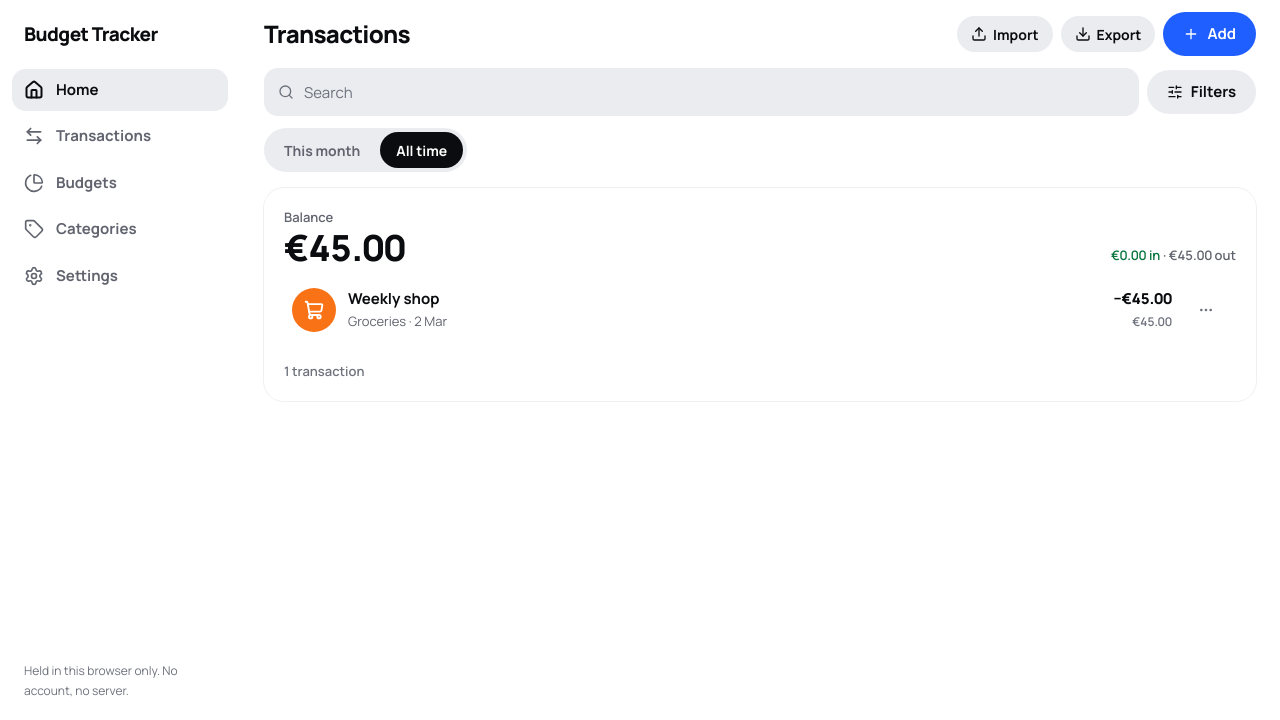
Scenario: editing and deleting a transaction › edits an existing transaction
Expected: the text "Weekly shop" is shown, [348,288,440,308]
Click the button named "actions for weekly shop" at (1206, 310), box [1184,288,1228,332]
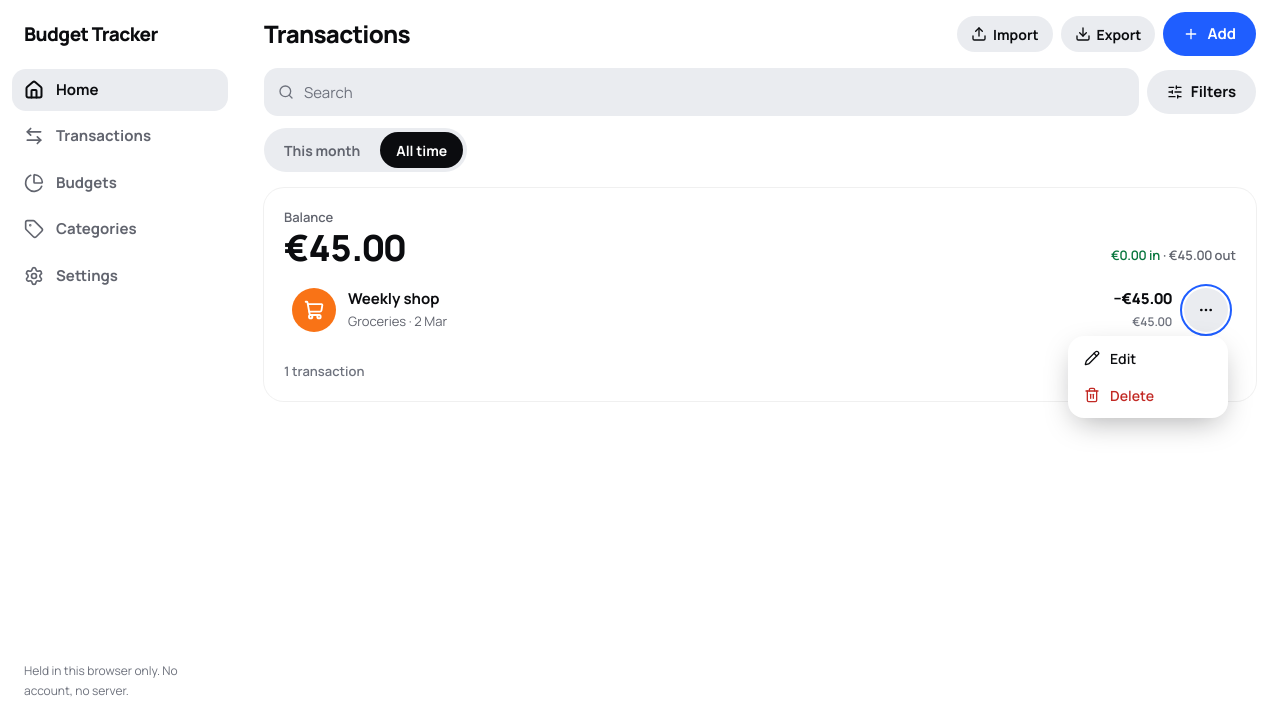
Click the menu item "Edit" at (1148, 358), box [1072,340,1224,376]
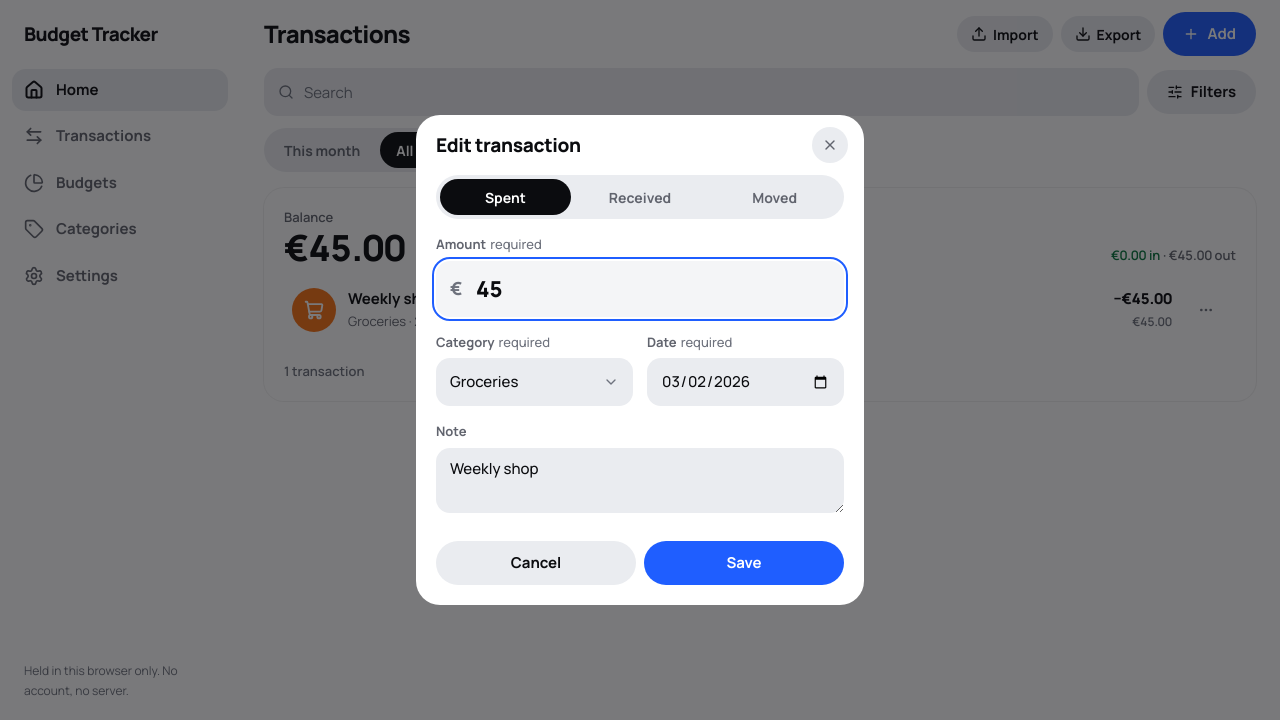
Replace the text in the text box labelled "Note" with "Big shop" at (640, 480), box [436,448,844,513]
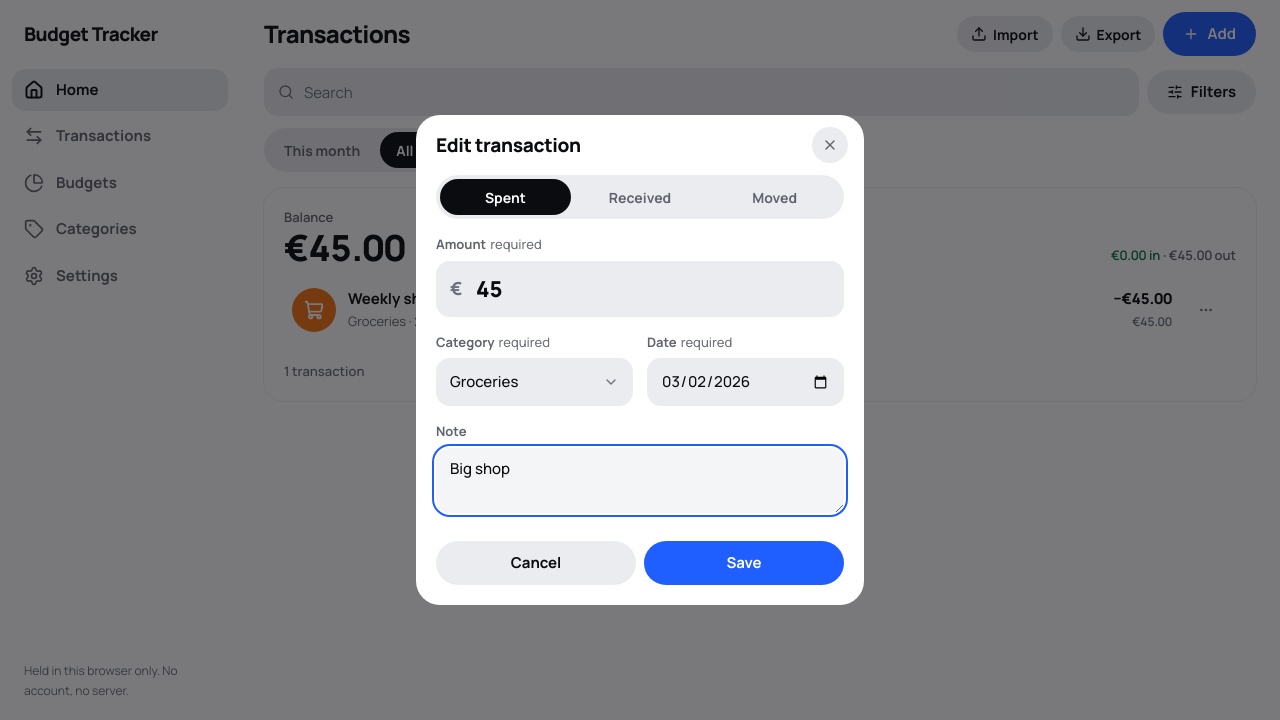
Click the button "Save" at (744, 563), box [644,541,844,585]
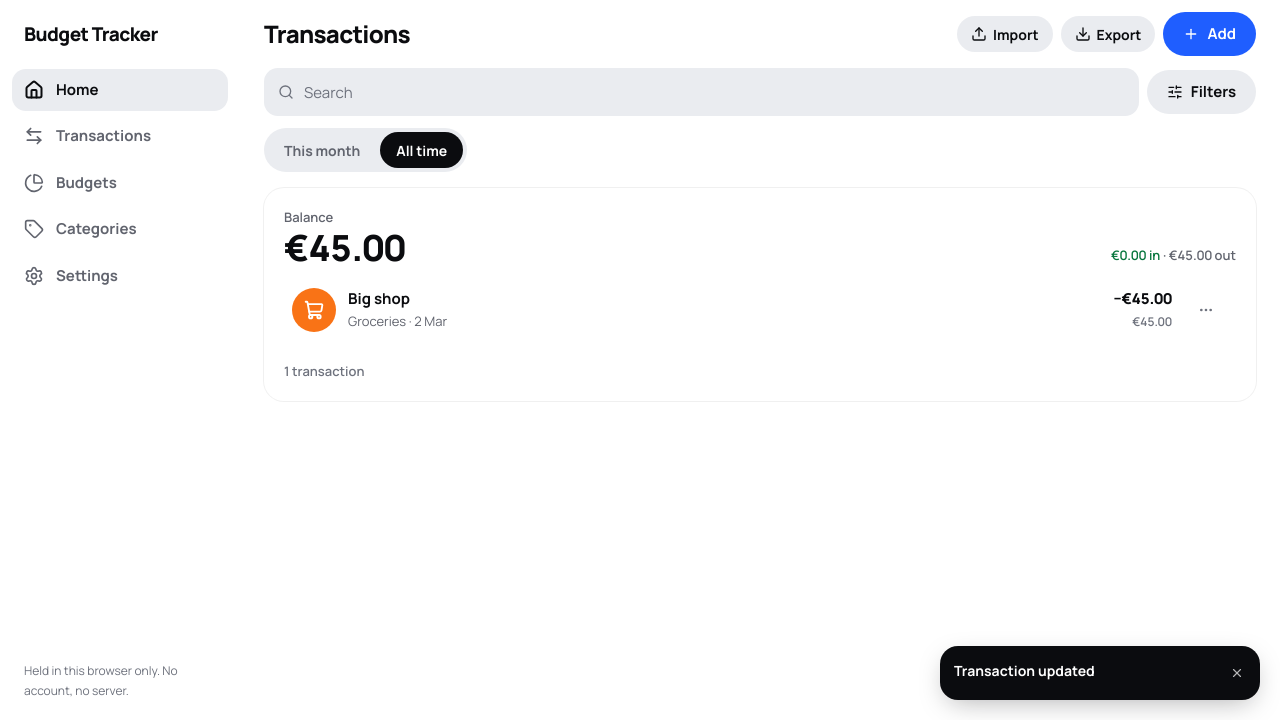
Result: the text "Big shop" is shown at [348,288,410,308]
Result: the text "Weekly shop" is gone
